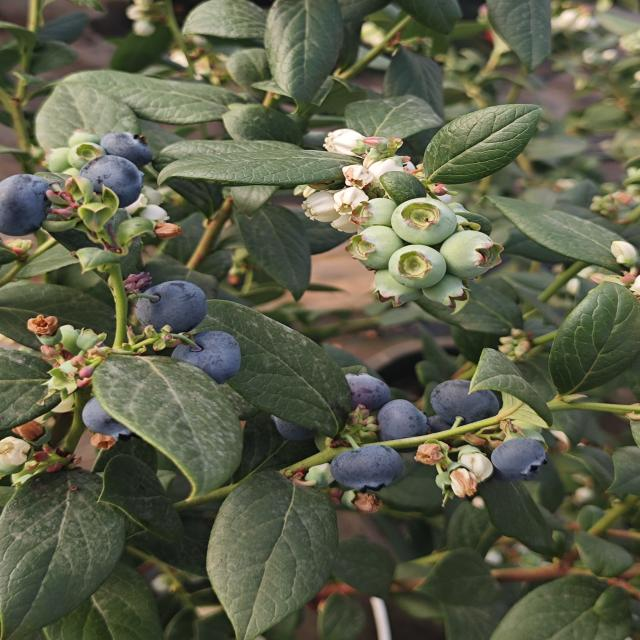ripe: (126, 276, 217, 340), (167, 327, 252, 388), (322, 442, 407, 497), (74, 152, 150, 213), (0, 169, 64, 240), (427, 376, 506, 427), (78, 388, 142, 447), (480, 433, 554, 484), (326, 364, 397, 416), (365, 399, 440, 447), (264, 395, 327, 448), (90, 128, 162, 170)
